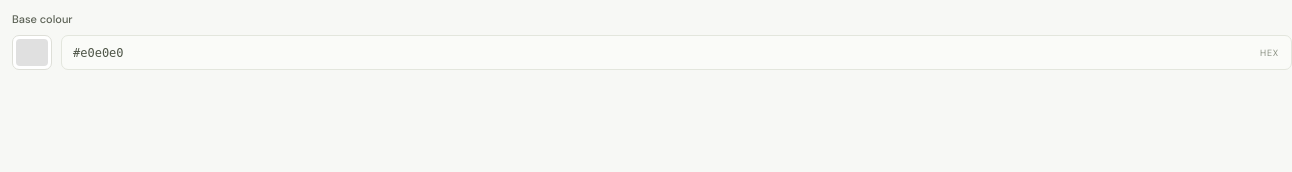
Test: ColourPicker › normalizes #AbC on Enter and syncs the native picker
Replace the text in the field named "Hex colour" with "#AbC" at (661, 52), box [62,36,1260,69]
Then press Enter
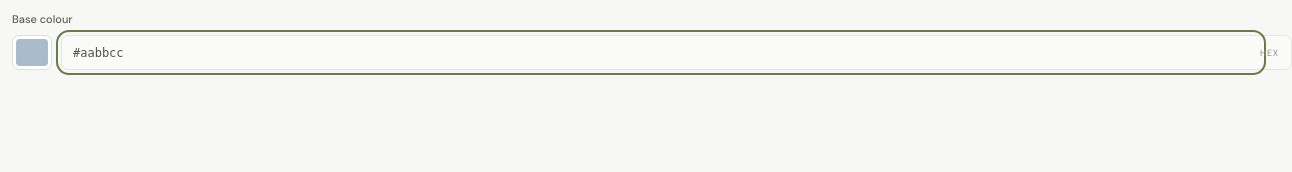
Check: the field named "Hex colour" holds "#aabbcc", box [62,36,1260,69]
Check: the colour field labelled "Base colour" holds "#aabbcc", box [12,35,52,70]
